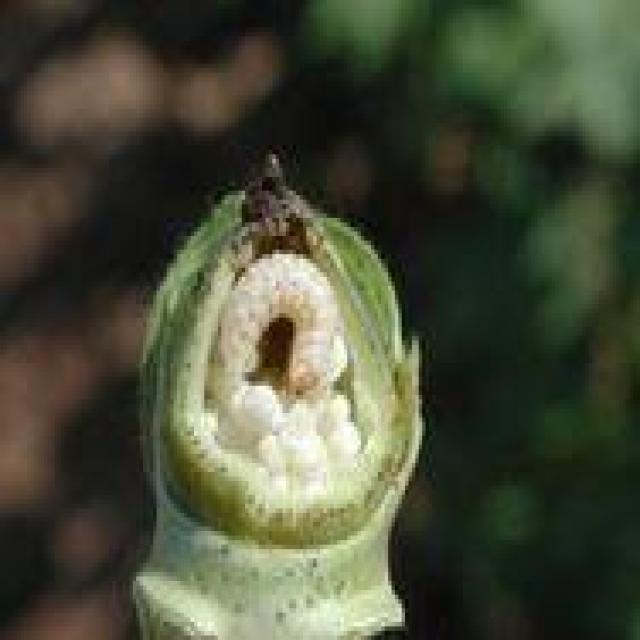armyworm: (213, 251, 342, 424)
